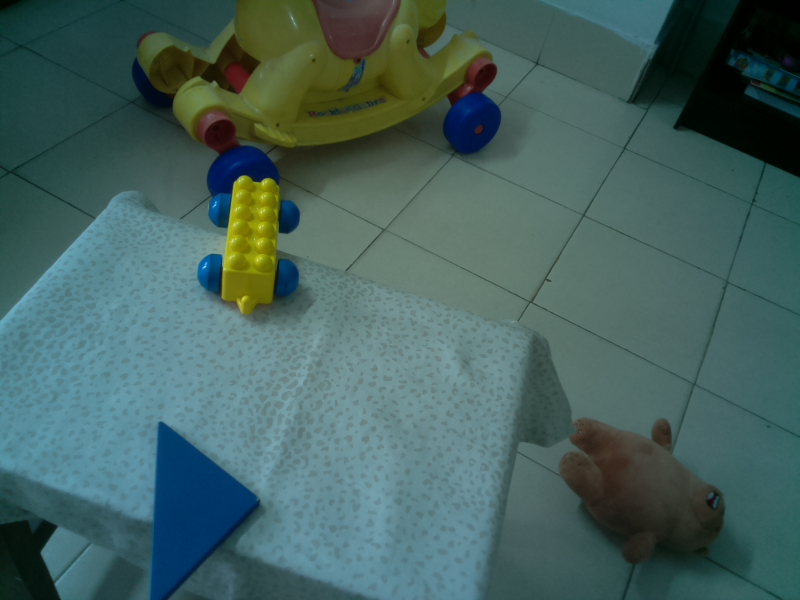Triangle: (149, 420, 263, 597)
toy_Car: (200, 174, 302, 313)
